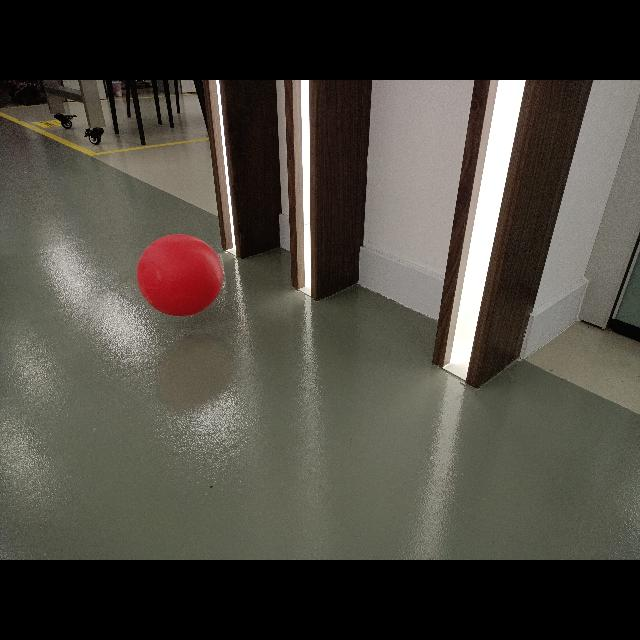R: (136, 234, 224, 316)
